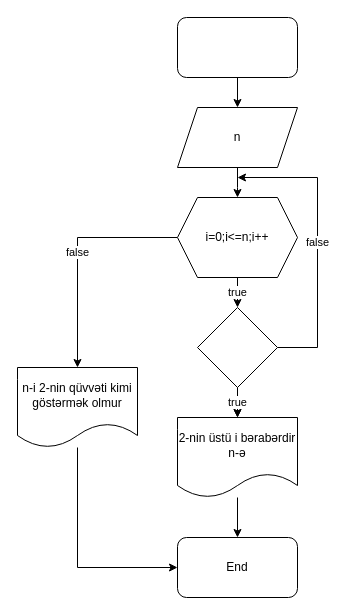
Image size: 346x615. Some labels were removed from this diagram. Each missing label, with the centre of its shape:
2^i==n: (237,347)
Start: (237,47)
